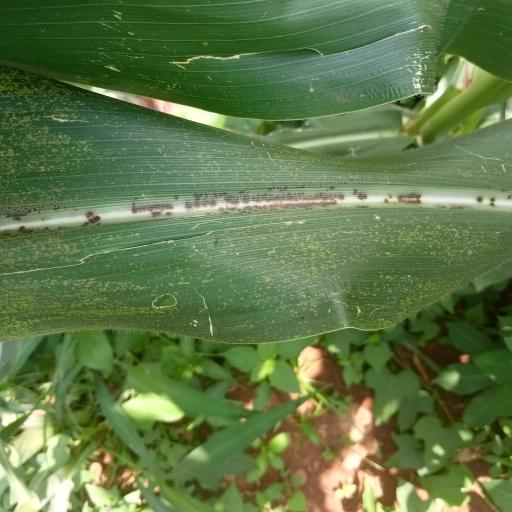Corn_Brown_Spots: (10, 64, 512, 355)
